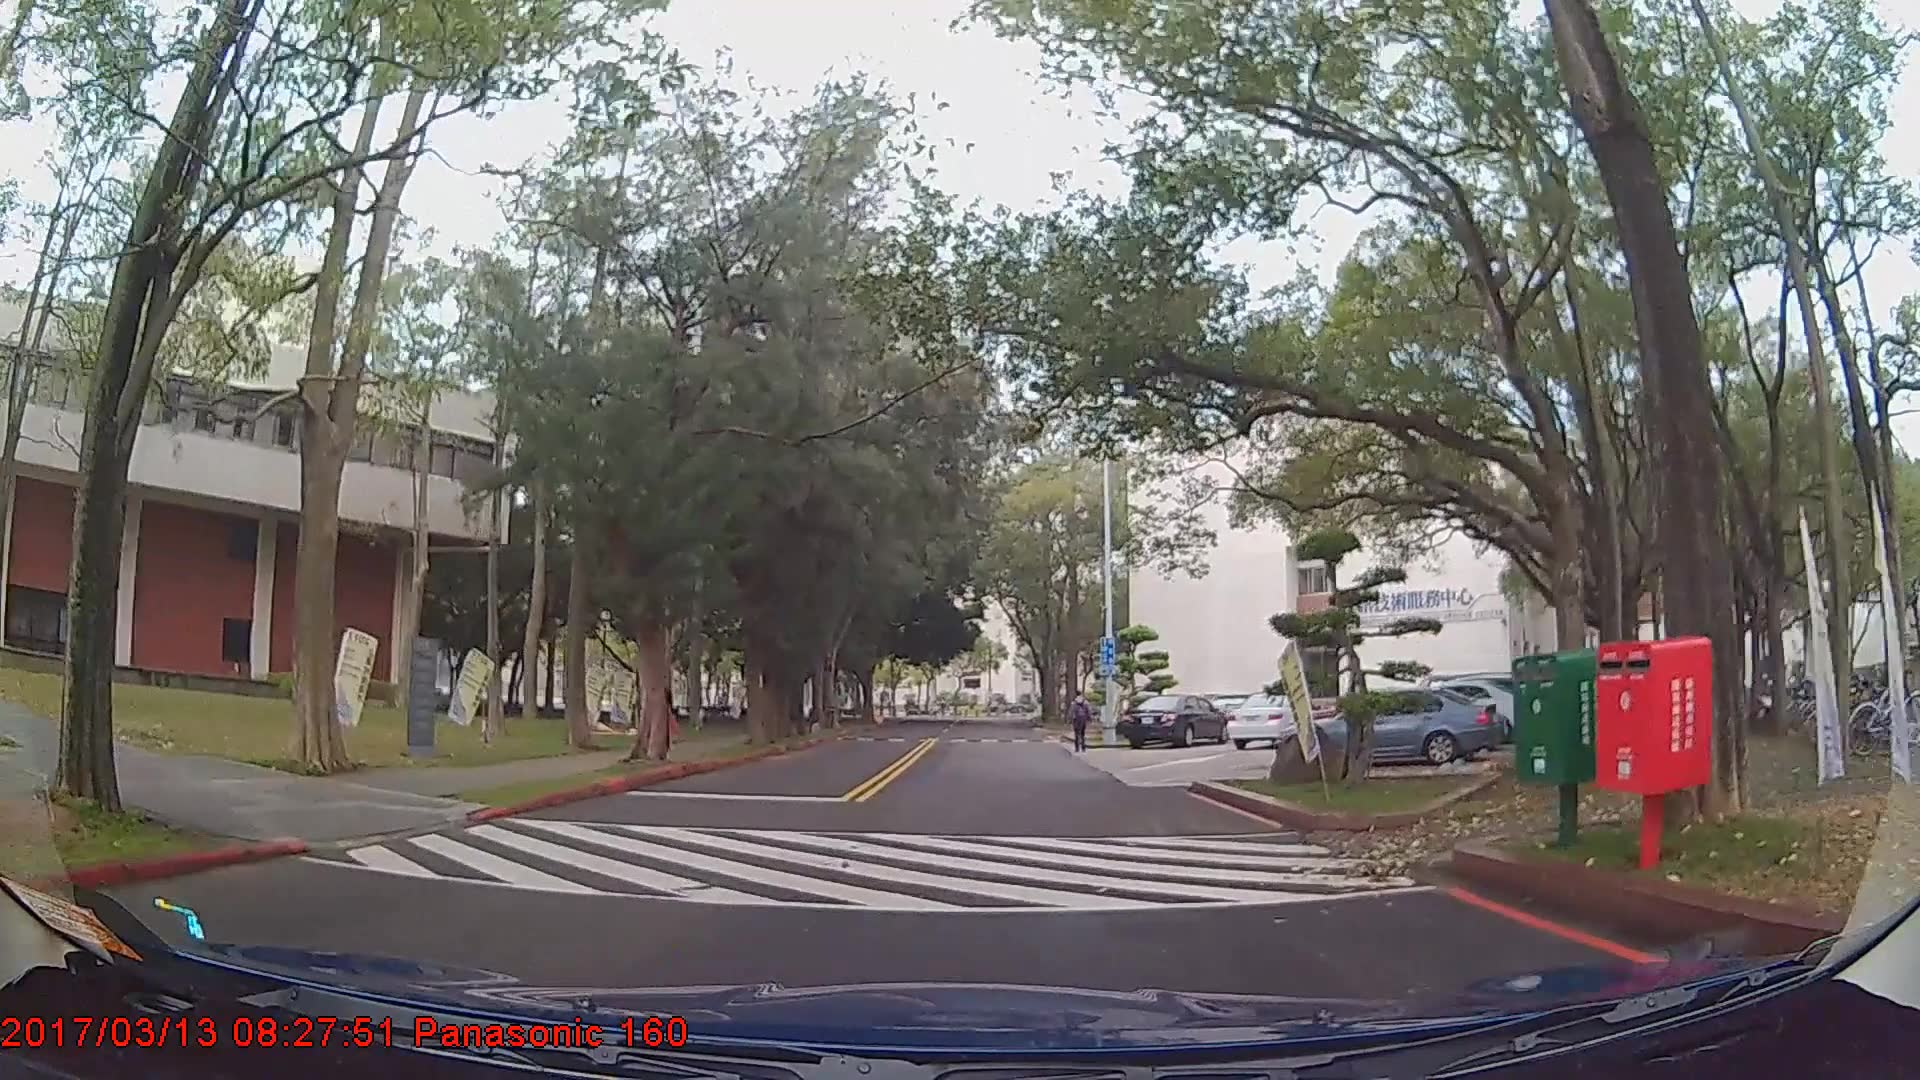pedestrian: (1069, 692, 1096, 754)
vehicle: (1273, 681, 1497, 775), (1115, 694, 1226, 747), (1224, 690, 1310, 749)
